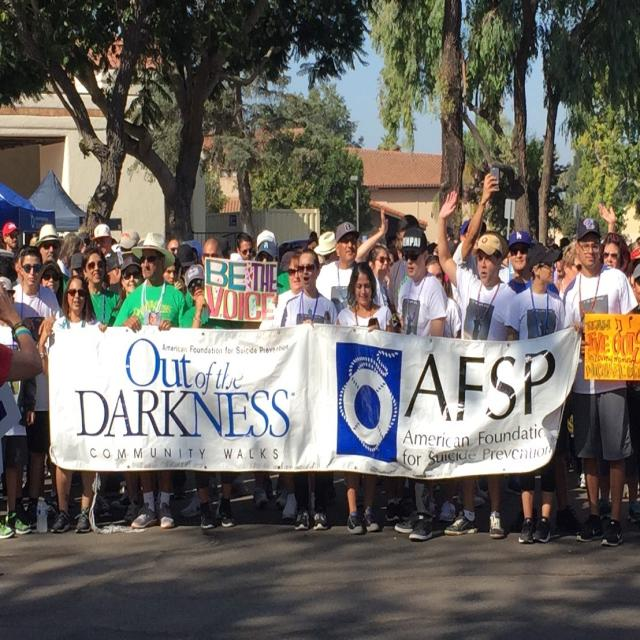body: (0, 202, 639, 285), (436, 188, 518, 540), (558, 216, 639, 547), (112, 233, 189, 531), (504, 243, 566, 544), (38, 274, 109, 534), (280, 248, 342, 530), (394, 226, 449, 542), (334, 260, 395, 537), (7, 245, 65, 531), (598, 230, 640, 533), (268, 251, 302, 515), (0, 275, 34, 538), (314, 221, 386, 315), (1, 289, 45, 384), (80, 244, 124, 328), (422, 254, 462, 340), (32, 222, 72, 295), (180, 264, 207, 330), (38, 259, 64, 309), (1, 220, 22, 253), (479, 165, 499, 190)
